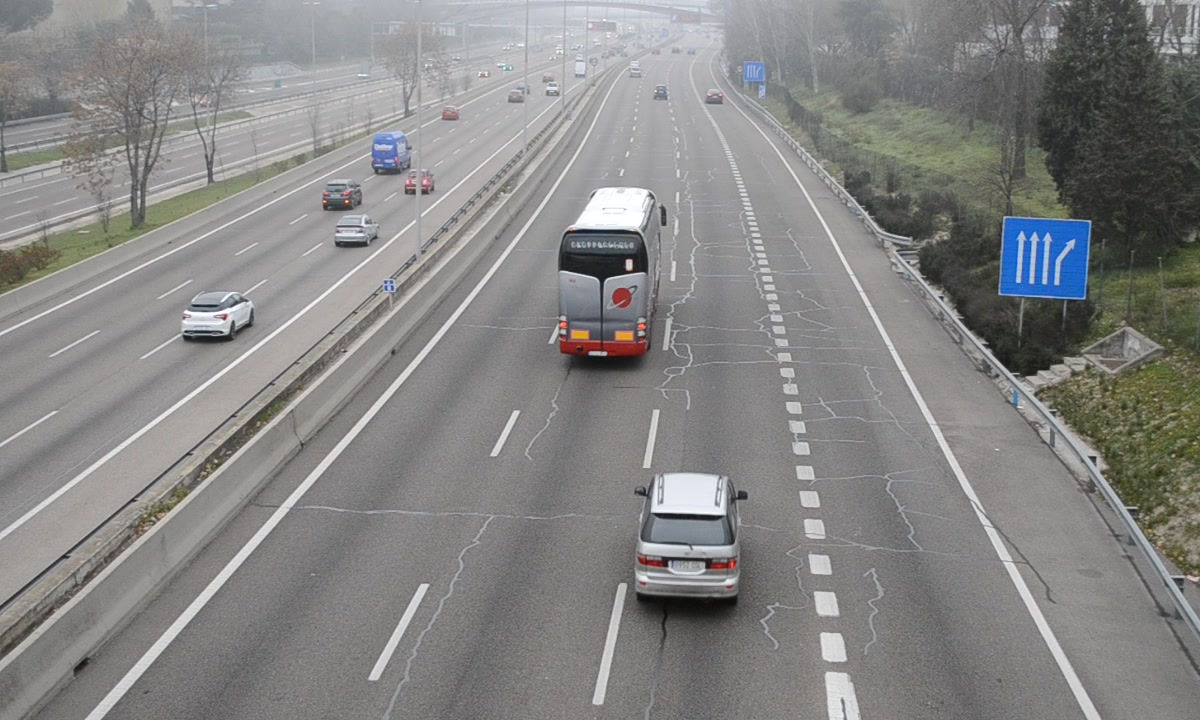bus: (556, 187, 660, 361)
car: (631, 471, 746, 606)
